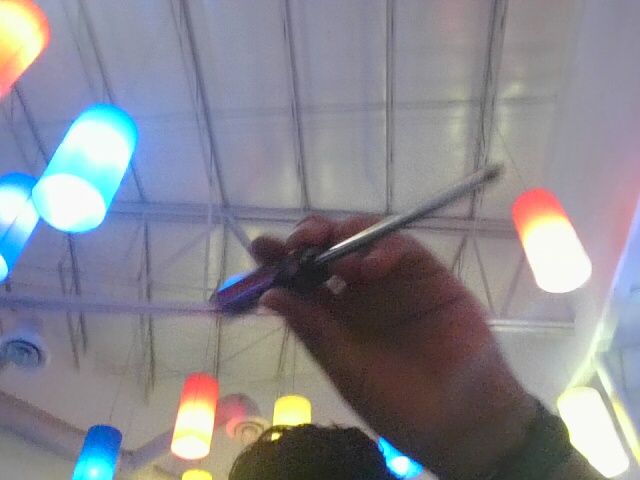destornillador: (206, 160, 513, 319)
